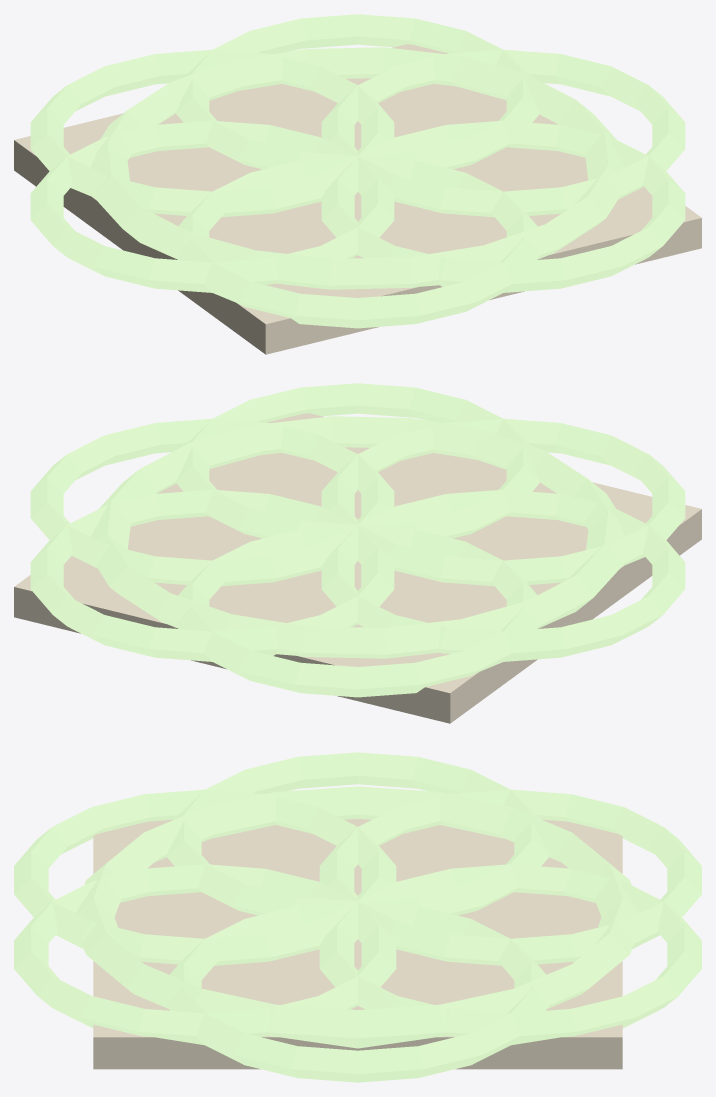
Rendered from HarmonicTile_Flower.fbx.
3 views of the same model, one above another, from view 1: azimuth 30°, elevation 25°; view 2: azimuth 150°, elevation 25°; view 3: azimuth 270°, elevation 25° (orthographic). The views are drawn at different scales.
Visible parts, largest first — view 1: HarmonicTile_Flower; view 2: HarmonicTile_Flower; view 3: HarmonicTile_Flower.
Part boxes in pixels (bbox=[...]): HarmonicTile_Flower: bbox=[14, 14, 701, 354]; HarmonicTile_Flower: bbox=[14, 383, 701, 723]; HarmonicTile_Flower: bbox=[14, 752, 701, 1082].
Bounding box in the file's own units: 42 × 3.7 × 38.99.
